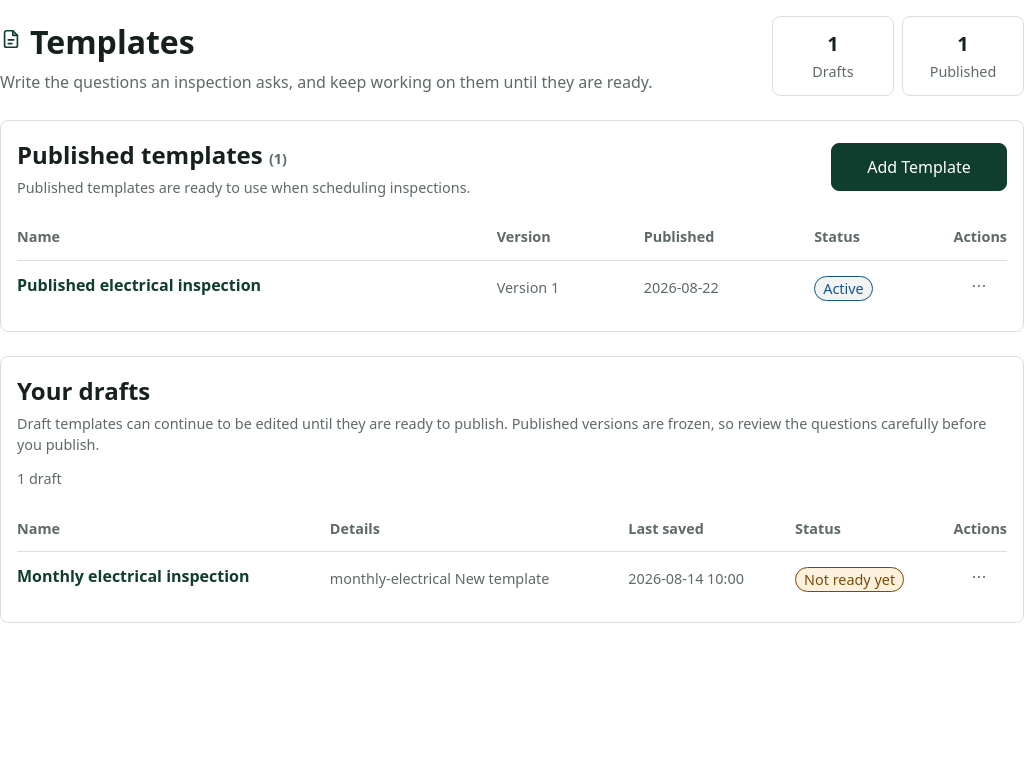
Scenario: las plantillas publicadas › deja salir del diálogo sin retirar nada
The width and height of the screenshot is (1024, 768).
Click the button named "More actions for Published electrical inspection": [979, 289] box [955,265,1003,313]
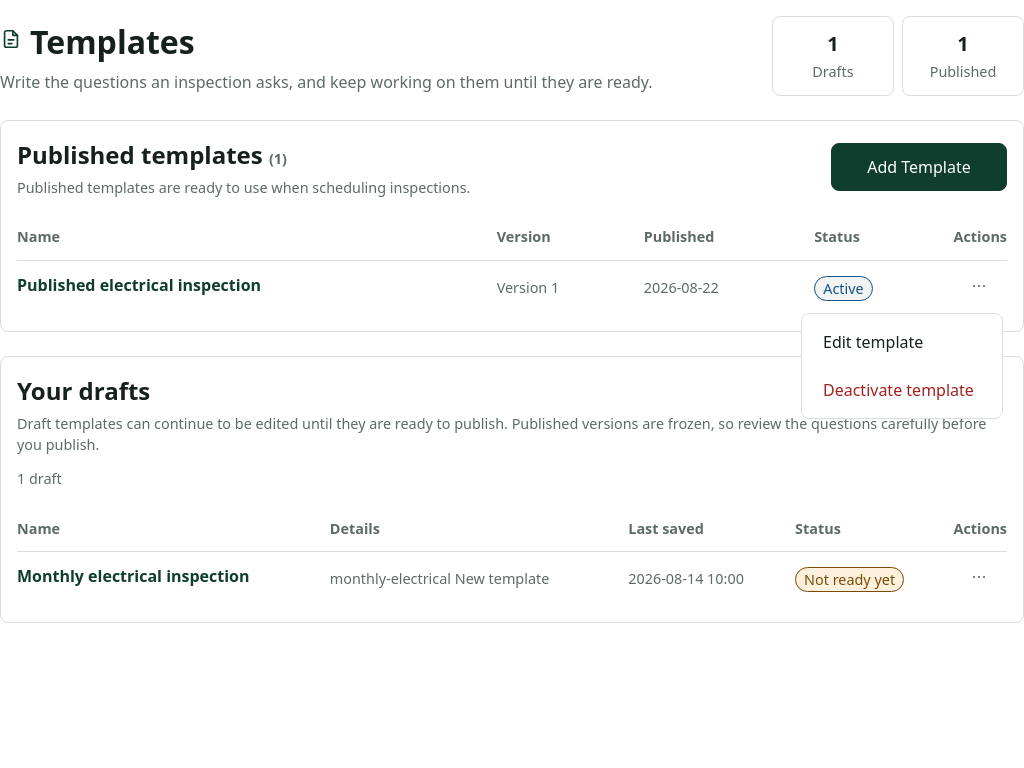
Click the menu item "Deactivate template": [902, 390] box [806,366,998,414]
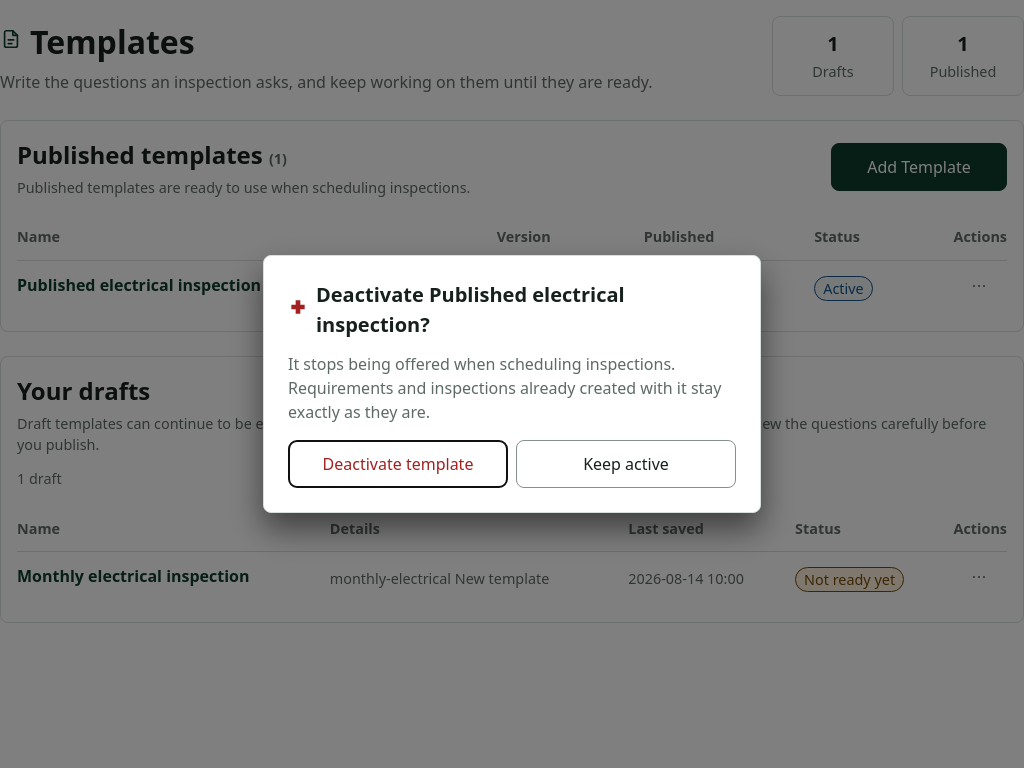
Click the button "Keep active": [626, 464] box [516,440,736,488]
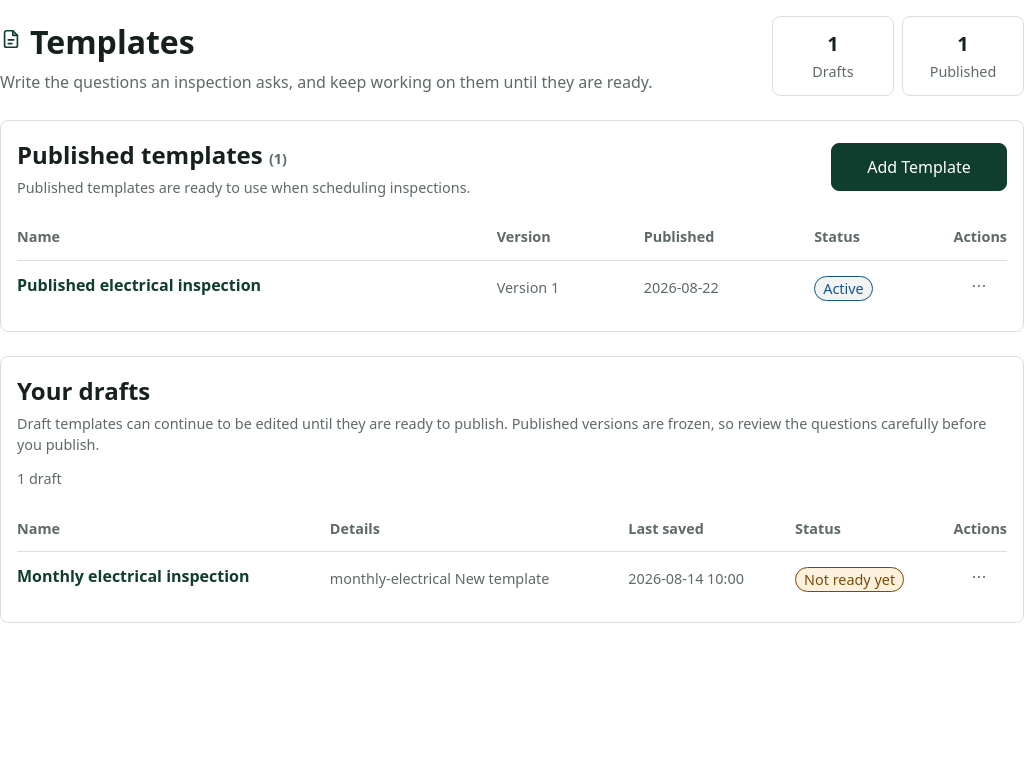
Expected: the button "Deactivate template" is gone
